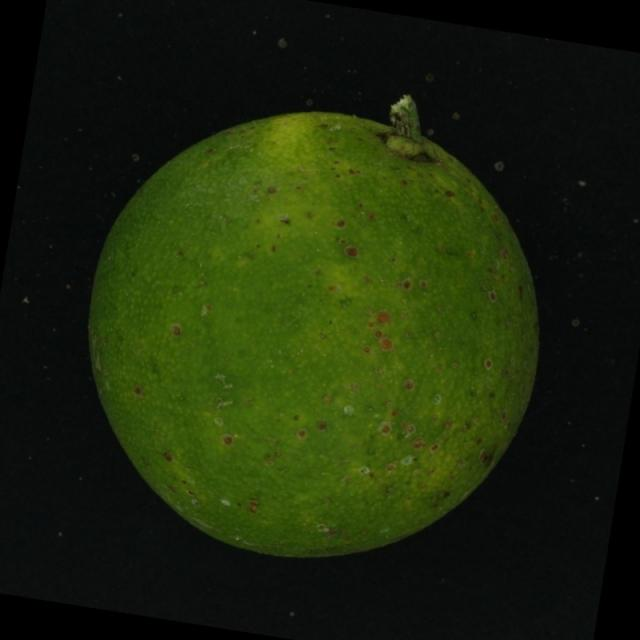grenning: (82, 62, 560, 580)
